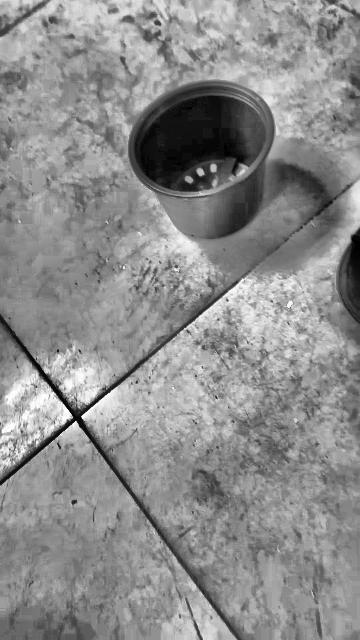pot: (129, 80, 275, 240)
